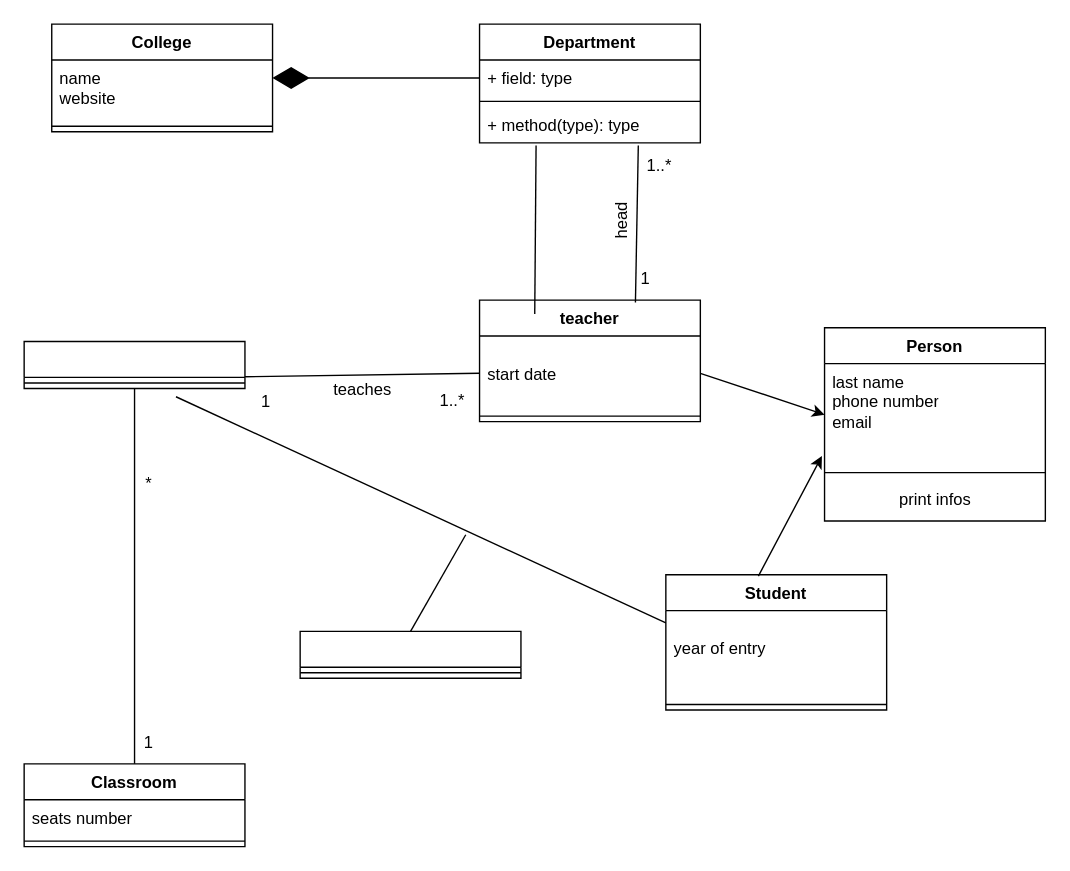
The diagram is 1070 pixels wide and 871 high, and some of its shapes have lost their labels. The centre of each missing label's shape, as x and y in pixels:
"grade" belongs at (x=410, y=654).
"Subject" belongs at (x=134, y=364).
